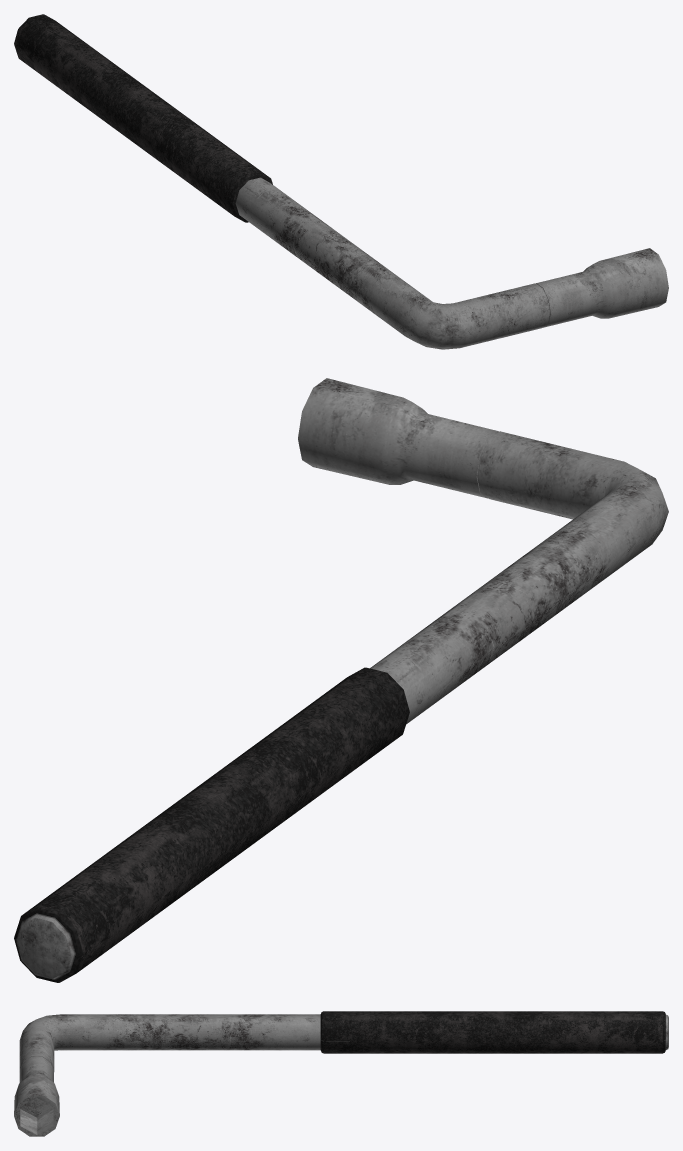
Rendered from Tireiron.fbx.
3 views of the same model, one above another, from view 1: azimuth 30°, elevation 25°; view 2: azimuth 150°, elevation 25°; view 3: azimuth 270°, elevation 25° (orthographic). The views are drawn at different scales.
Parts seen in each view (by area): view 1: Tire_Iron; view 2: Tire_Iron; view 3: Tire_Iron.
Boxes of the visible parts, x1,y1,x2,y2 form: Tire_Iron: (14,14,668,349); Tire_Iron: (14,378,668,982); Tire_Iron: (14,1011,668,1136).
Bounding box in the file's own units: 85.03 × 17.57 × 254.
